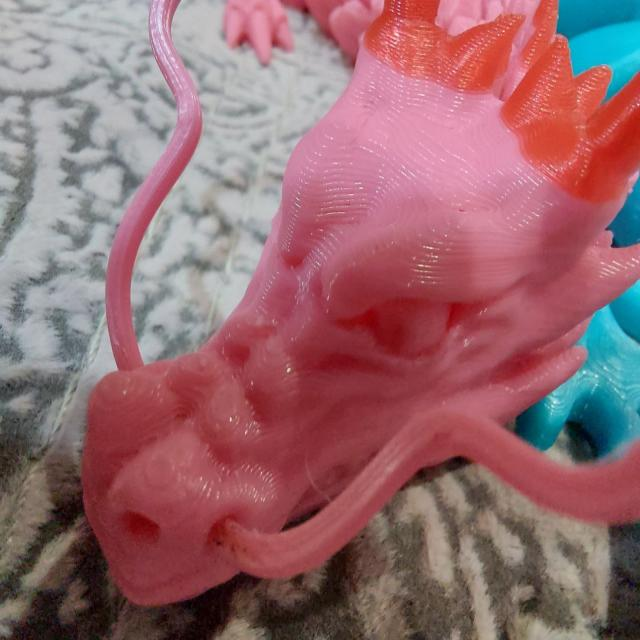Without deffect: (50, 2, 640, 613)
